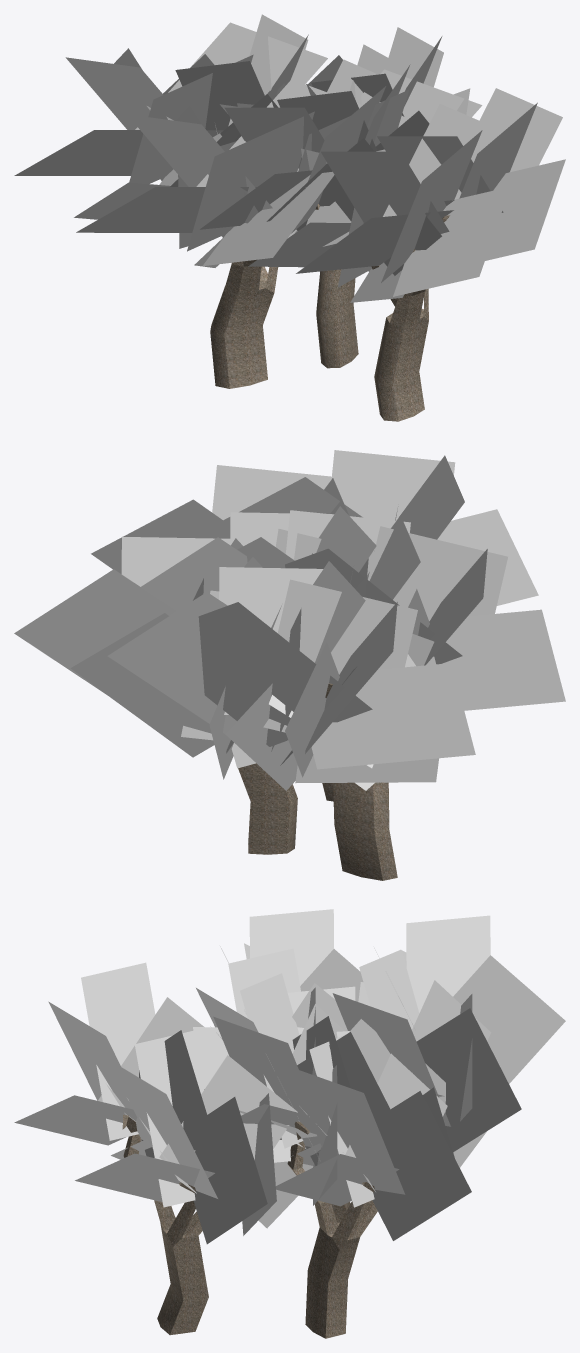
File: treeclump1.fbx
3 renders of one model, top to bottom at view 1: azimuth 30°, elevation 25°; view 2: azimuth 150°, elevation 25°; view 3: azimuth 270°, elevation 25°, orthographic. The views are drawn at different scales.
Parts seen in each view (by area): view 1: Box002, Plane298, Plane251, Box006, Plane296, Plane310, Plane250, Plane253, Plane247, Plane248, Box005, Plane254 (+31 smaller); view 2: Plane253, Plane255, Plane247, Plane285, Plane279, Plane257, Plane291, Plane251, Plane299, Box002, Box005, Plane281 (+23 smaller); view 3: Plane285, Plane279, Plane258, Box005, Plane309, Plane254, Plane296, Box006, Plane287, Plane248, Plane275, Plane311 (+31 smaller).
Boxes of the visible parts, left/top/right/bottom form: Box002: left=210, top=259, right=278, bottom=388; Plane298: left=393, top=186, right=510, bottom=296; Plane251: left=187, top=111, right=314, bottom=251; Box006: left=315, top=204, right=449, bottom=421; Plane296: left=321, top=151, right=449, bottom=233; Plane310: left=485, top=159, right=565, bottom=260; Plane250: left=202, top=171, right=334, bottom=266; Plane253: left=14, top=130, right=223, bottom=175; Plane247: left=76, top=187, right=256, bottom=232; Plane248: left=127, top=114, right=272, bottom=209; Box005: left=316, top=269, right=358, bottom=368; Plane254: left=65, top=57, right=163, bottom=129; Plane253: left=311, top=663, right=475, bottom=769; Plane255: left=198, top=602, right=372, bottom=746; Plane247: left=442, top=609, right=565, bottom=710; Plane285: left=14, top=569, right=176, bottom=693; Plane279: left=107, top=592, right=236, bottom=733; Plane257: left=263, top=579, right=417, bottom=732; Plane291: left=70, top=613, right=214, bottom=757; Plane251: left=368, top=526, right=507, bottom=621; Plane299: left=331, top=450, right=455, bottom=520; Box002: left=325, top=683, right=397, bottom=880; Box005: left=238, top=763, right=297, bottom=854; Plane281: left=219, top=567, right=323, bottom=714; Plane285: left=372, top=1091, right=471, bottom=1240; Plane279: left=416, top=1008, right=521, bottom=1152; Plane258: left=453, top=955, right=565, bottom=1083; Box005: left=287, top=1121, right=377, bottom=1338; Plane309: left=193, top=1097, right=267, bottom=1244; Plane254: left=406, top=915, right=490, bottom=1012; Plane296: left=81, top=962, right=155, bottom=1140; Box006: left=122, top=1114, right=208, bottom=1335; Plane287: left=289, top=1066, right=405, bottom=1194; Plane248: left=249, top=909, right=333, bottom=985; Plane275: left=213, top=1016, right=319, bottom=1149; Plane311: left=109, top=1060, right=217, bottom=1198.
Bounding box in the file's own units: 147 × 90.55 × 140.
